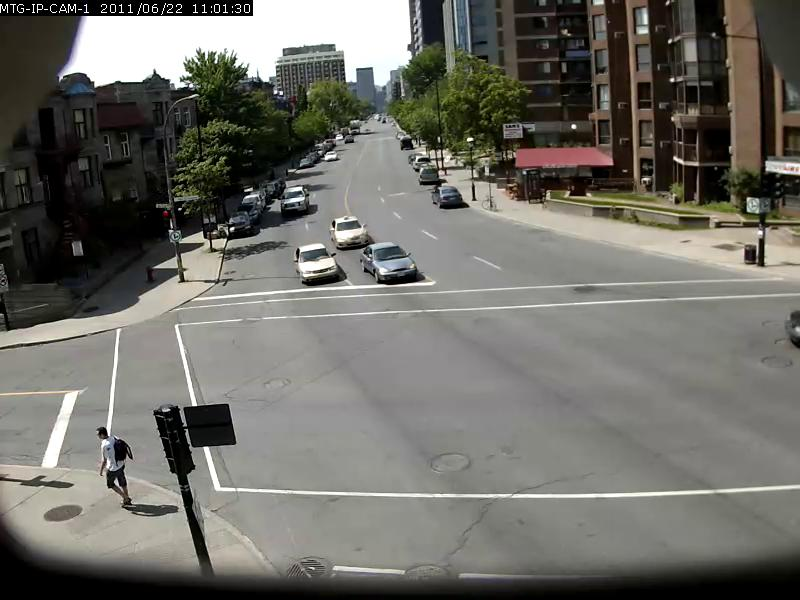Car: (363, 242, 417, 284), (291, 241, 338, 281), (329, 214, 369, 249), (279, 184, 312, 215)
